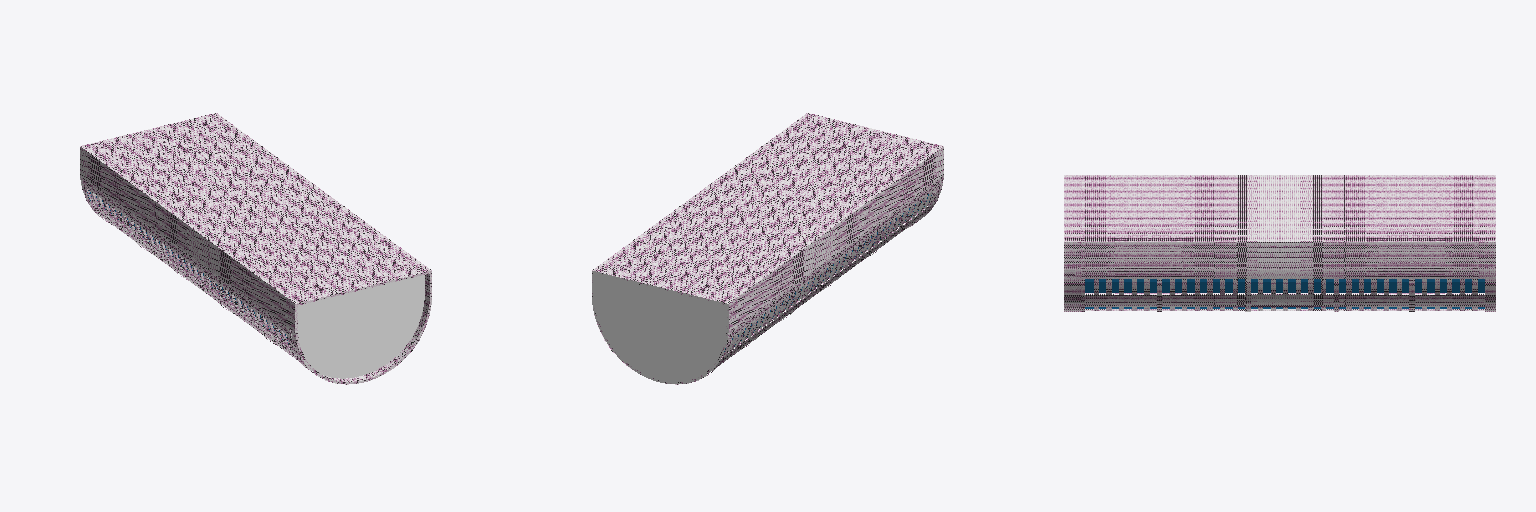
3 renders of one model, left to right at view 1: azimuth 30°, elevation 25°; view 2: azimuth 150°, elevation 25°; view 3: azimuth 270°, elevation 25°, orthographic.
Visible parts, largest first — view 1: Wall_02, Slab_01, Wall_03, Wall_01, Wall_04; view 2: Wall_02, Slab_01, Wall_03, Wall_01, Wall_04; view 3: Wall_02, Wall_03, Glass_01, Wall_01.
Part boxes in pixels (bbox=[...]): Wall_02: bbox=[80, 113, 424, 359]; Slab_01: bbox=[81, 185, 424, 378]; Wall_03: bbox=[89, 121, 404, 347]; Wall_01: bbox=[80, 113, 431, 384]; Wall_04: bbox=[87, 189, 431, 383]; Wall_02: bbox=[595, 117, 938, 373]; Slab_01: bbox=[592, 184, 938, 383]; Wall_03: bbox=[607, 124, 928, 351]; Wall_01: bbox=[592, 113, 943, 384]; Wall_04: bbox=[592, 179, 943, 383]; Wall_02: bbox=[1075, 175, 1495, 310]; Wall_03: bbox=[1094, 175, 1477, 311]; Glass_01: bbox=[1085, 279, 1484, 308]; Wall_01: bbox=[1064, 175, 1495, 311].
Bounding box in the file's own units: 1500 × 1000 × 4100.
Materials: 3 (1 with a texture image).